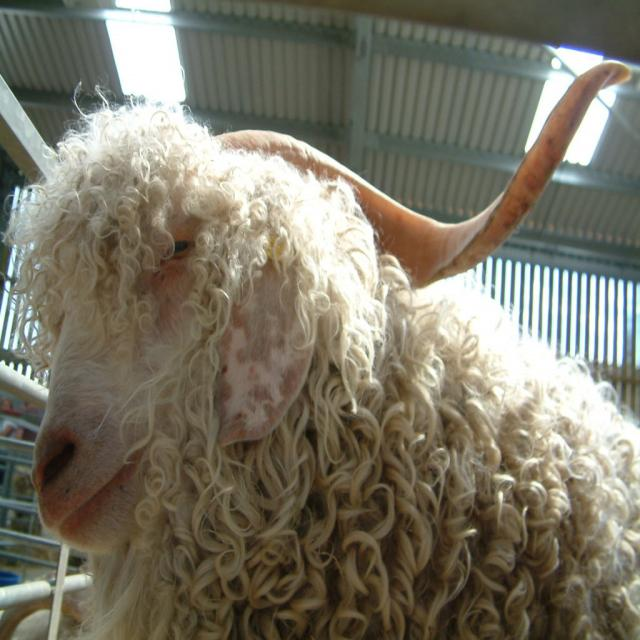Sheep: (24, 64, 640, 616)
